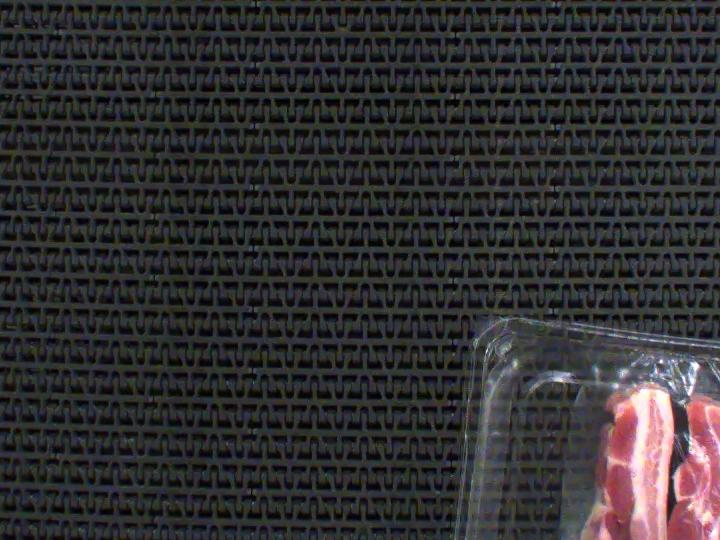unsealed: (525, 338, 720, 540)
